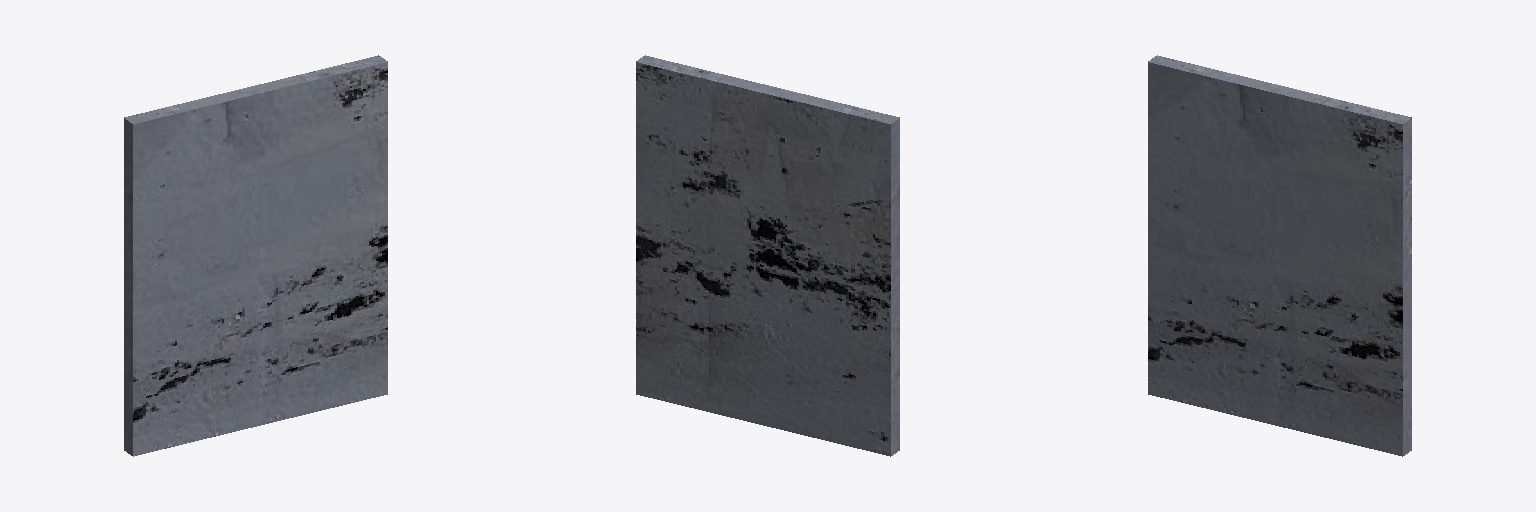
The picture shows the model from 3 angles: view 1: azimuth 30°, elevation 25°; view 2: azimuth 150°, elevation 25°; view 3: azimuth 330°, elevation 25°; orthographic projection.
Visible parts, largest first — view 1: Cube.005_Cube.006; view 2: Cube.005_Cube.006; view 3: Cube.005_Cube.006.
Boxes of the visible parts, x1=… form: Cube.005_Cube.006: x1=124, y1=55, x2=387, y2=456; Cube.005_Cube.006: x1=636, y1=55, x2=899, y2=456; Cube.005_Cube.006: x1=1148, y1=55, x2=1411, y2=456.
Size of the model in its own units: 1.96 by 2.44 by 0.1227.
Materials: 1 (1 with a texture image).